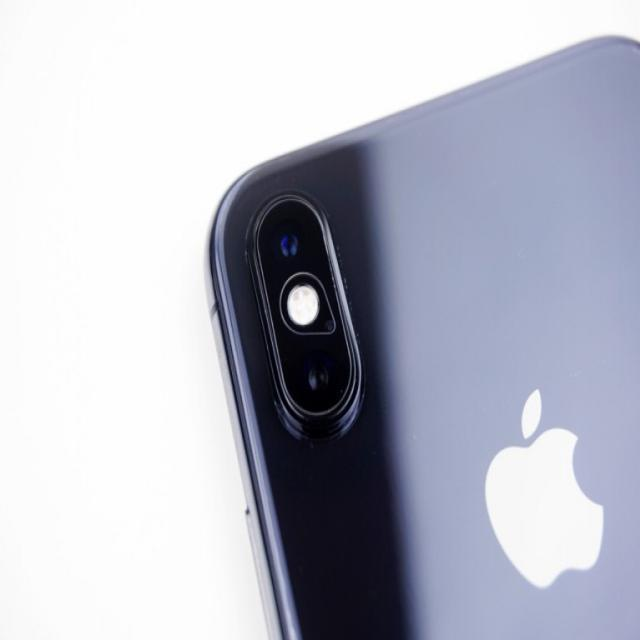lens: (247, 191, 368, 427)
phone: (198, 38, 640, 640)
